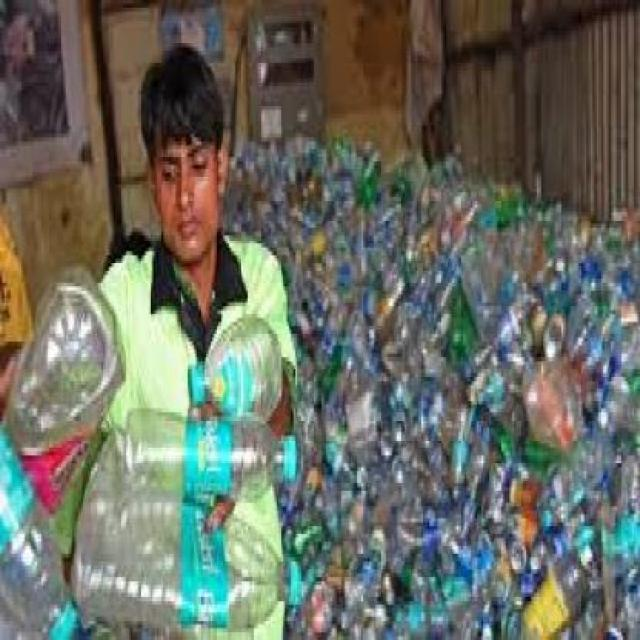garbage: (270, 157, 639, 624), (0, 291, 264, 617)
